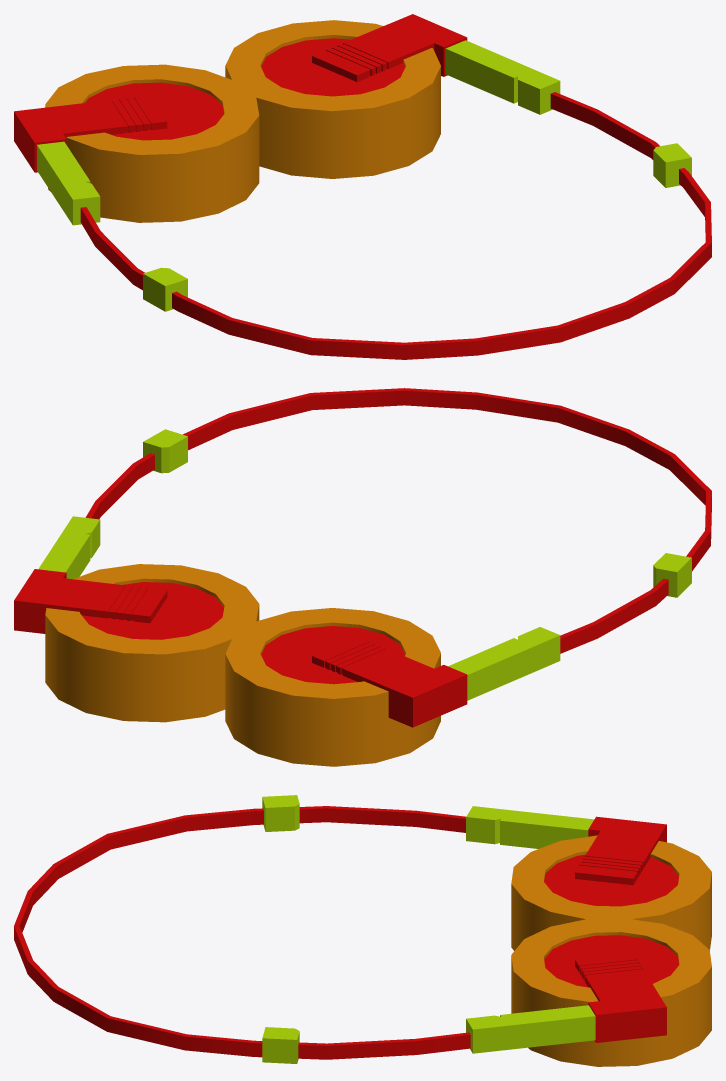
File: Headset.fbx
3 renders of one model, top to bottom at view 1: azimuth 30°, elevation 25°; view 2: azimuth 150°, elevation 25°; view 3: azimuth 270°, elevation 25°, orthographic. The views are drawn at different scales.
Parts seen in each view (by area): view 1: Headset(Bake).002; view 2: Headset(Bake).002; view 3: Headset(Bake).002.
Part boxes in pixels (x1,y1,x2,y2): Headset(Bake).002: (14, 14, 711, 359); Headset(Bake).002: (14, 388, 711, 766); Headset(Bake).002: (14, 795, 711, 1066).
Size of the model in its own units: 8.21 by 1.05 by 9.88.
